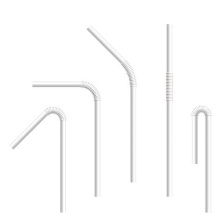drinking_straw: (29, 73, 105, 200), (82, 21, 140, 186), (6, 102, 71, 217), (185, 100, 215, 216), (161, 18, 176, 202)
